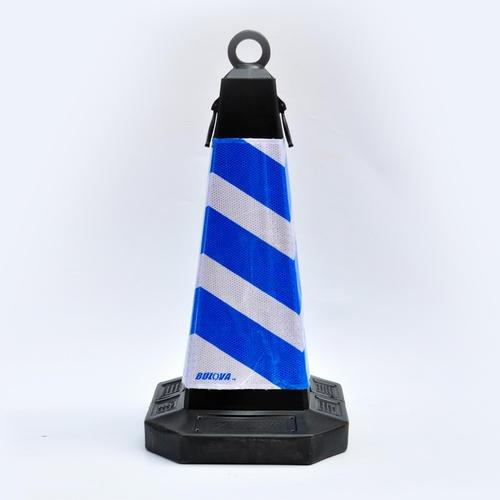cone_barrel: (146, 33, 357, 468)
